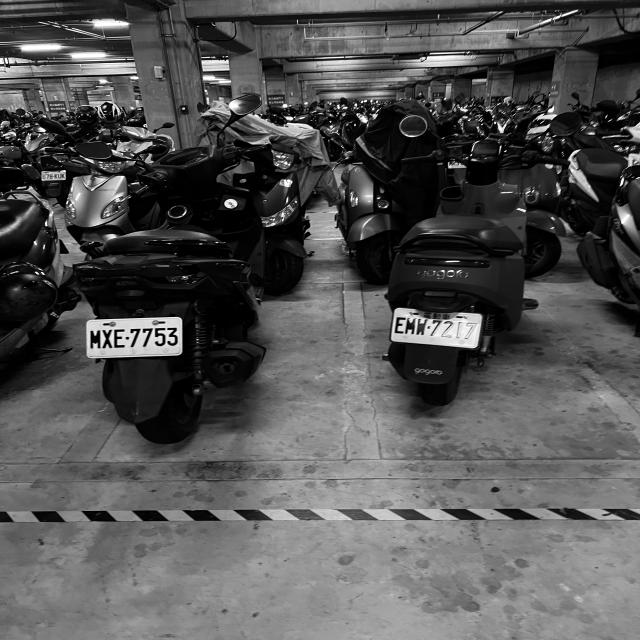-: (126, 335, 130, 341), (427, 326, 431, 330)
1: (456, 321, 463, 339)
2: (440, 320, 455, 338)
3: (166, 326, 178, 346)
5: (154, 326, 167, 346)
7: (464, 322, 478, 340), (142, 328, 154, 346), (130, 328, 140, 346), (432, 319, 442, 337)
E: (113, 328, 125, 349), (393, 316, 407, 334)
M: (404, 317, 418, 335), (89, 330, 101, 350)
W: (416, 318, 429, 336)
X: (102, 328, 112, 348)
plate: (391, 309, 481, 347), (86, 320, 180, 354)
